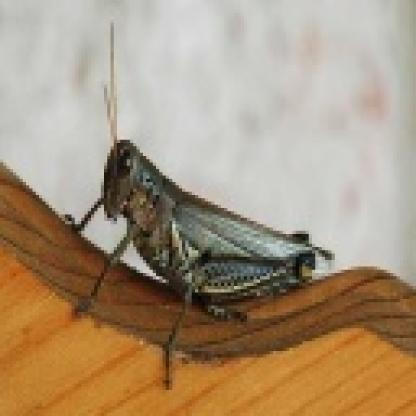grasshopper: (67, 103, 342, 371)
